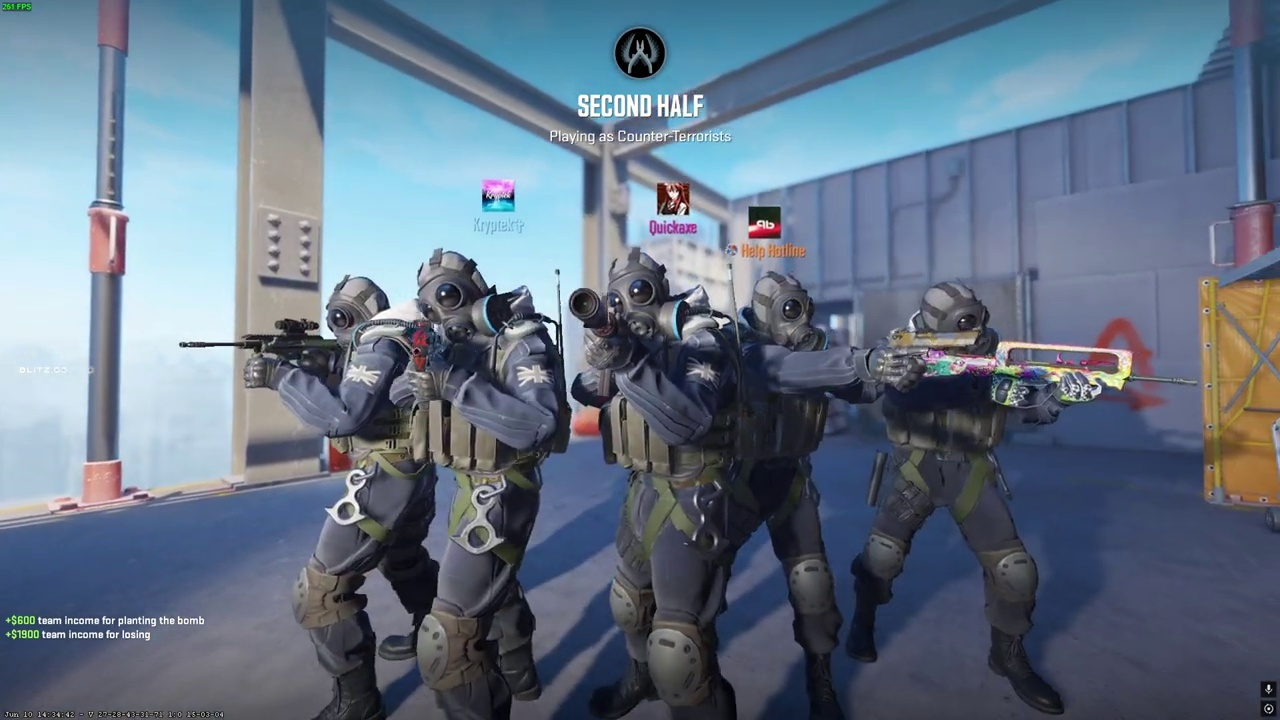CT: (842, 276, 1069, 719), (571, 248, 744, 715), (400, 249, 571, 720), (704, 267, 866, 719), (270, 274, 428, 720)
